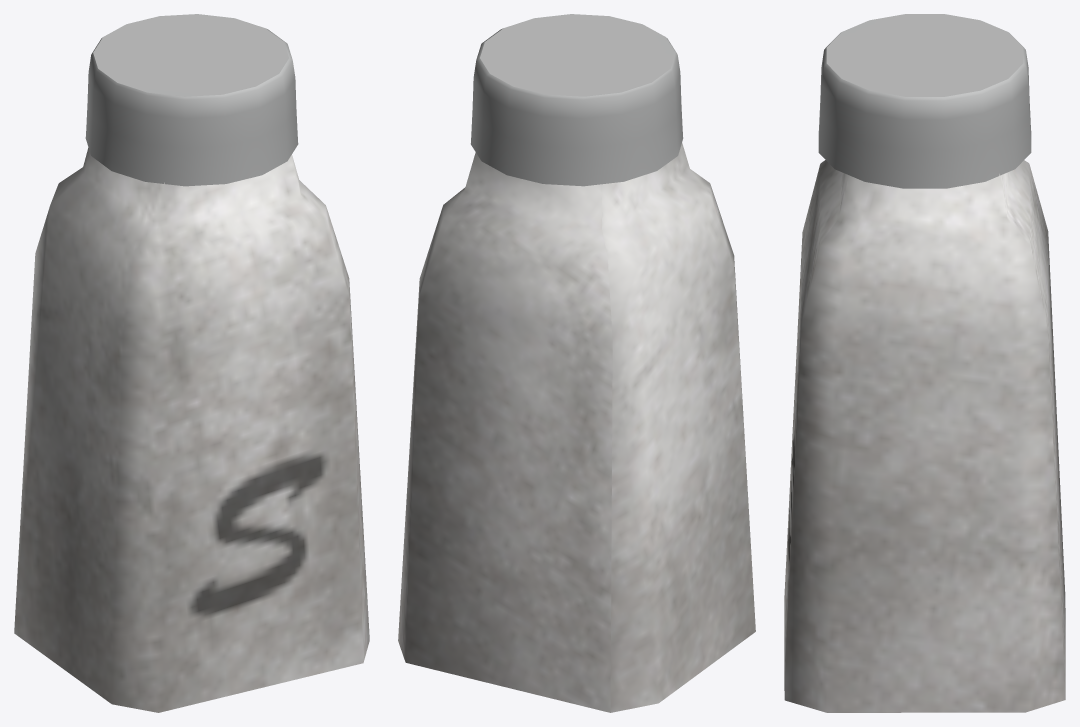
The model's file is Prop_Salt.fbx.
3 views of the same model, side by side, from view 1: azimuth 30°, elevation 25°; view 2: azimuth 150°, elevation 25°; view 3: azimuth 270°, elevation 25° (orthographic).
Visible parts, largest first — view 1: Prop_Salt; view 2: Prop_Salt; view 3: Prop_Salt.
Boxes of the visible parts, x1,y1,x2,y2 form: Prop_Salt: (14,14,369,712); Prop_Salt: (398,14,755,712); Prop_Salt: (784,14,1065,712).
Size of the model in its own units: 2.67 by 5.73 by 2.46.
